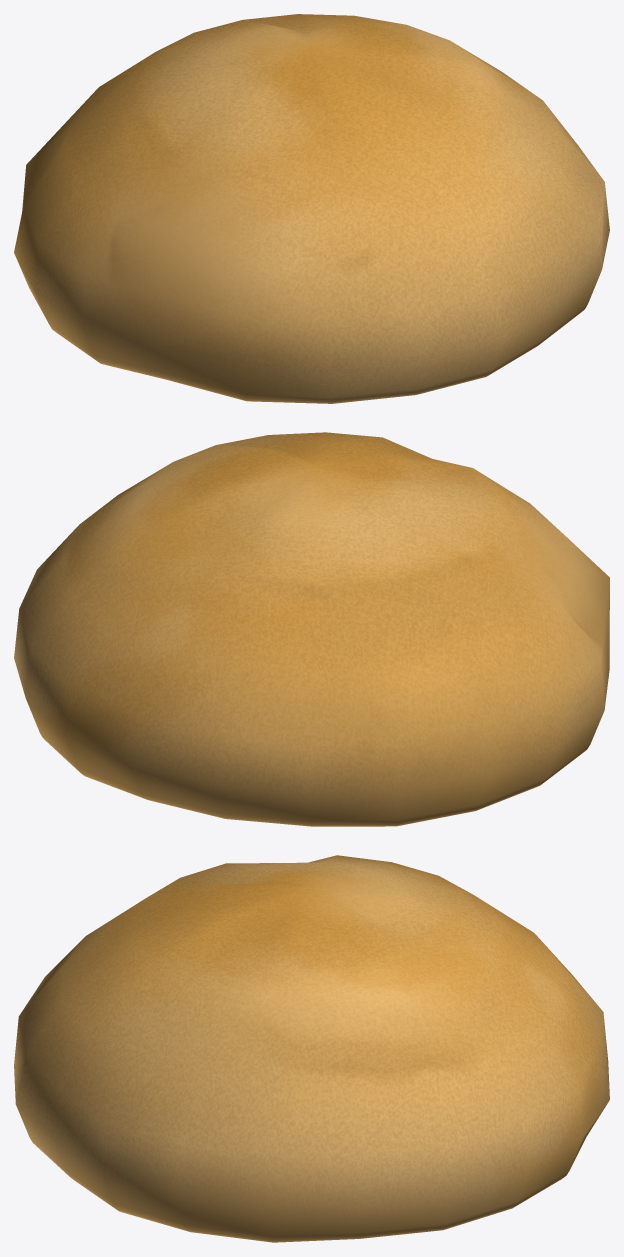
File: 1choux.fbx
3 views of the same model, one above another, from view 1: azimuth 30°, elevation 25°; view 2: azimuth 150°, elevation 25°; view 3: azimuth 270°, elevation 25° (orthographic).
Parts seen in each view (by area): view 1: Object002; view 2: Object002; view 3: Object002.
Part boxes in pixels (<box>): Object002: <box>14,14,609,403</box>; Object002: <box>14,432,609,826</box>; Object002: <box>14,855,609,1242</box>.
Size of the model in its own units: 37.86 by 17.26 by 37.86.
1 material, 1 textured.
